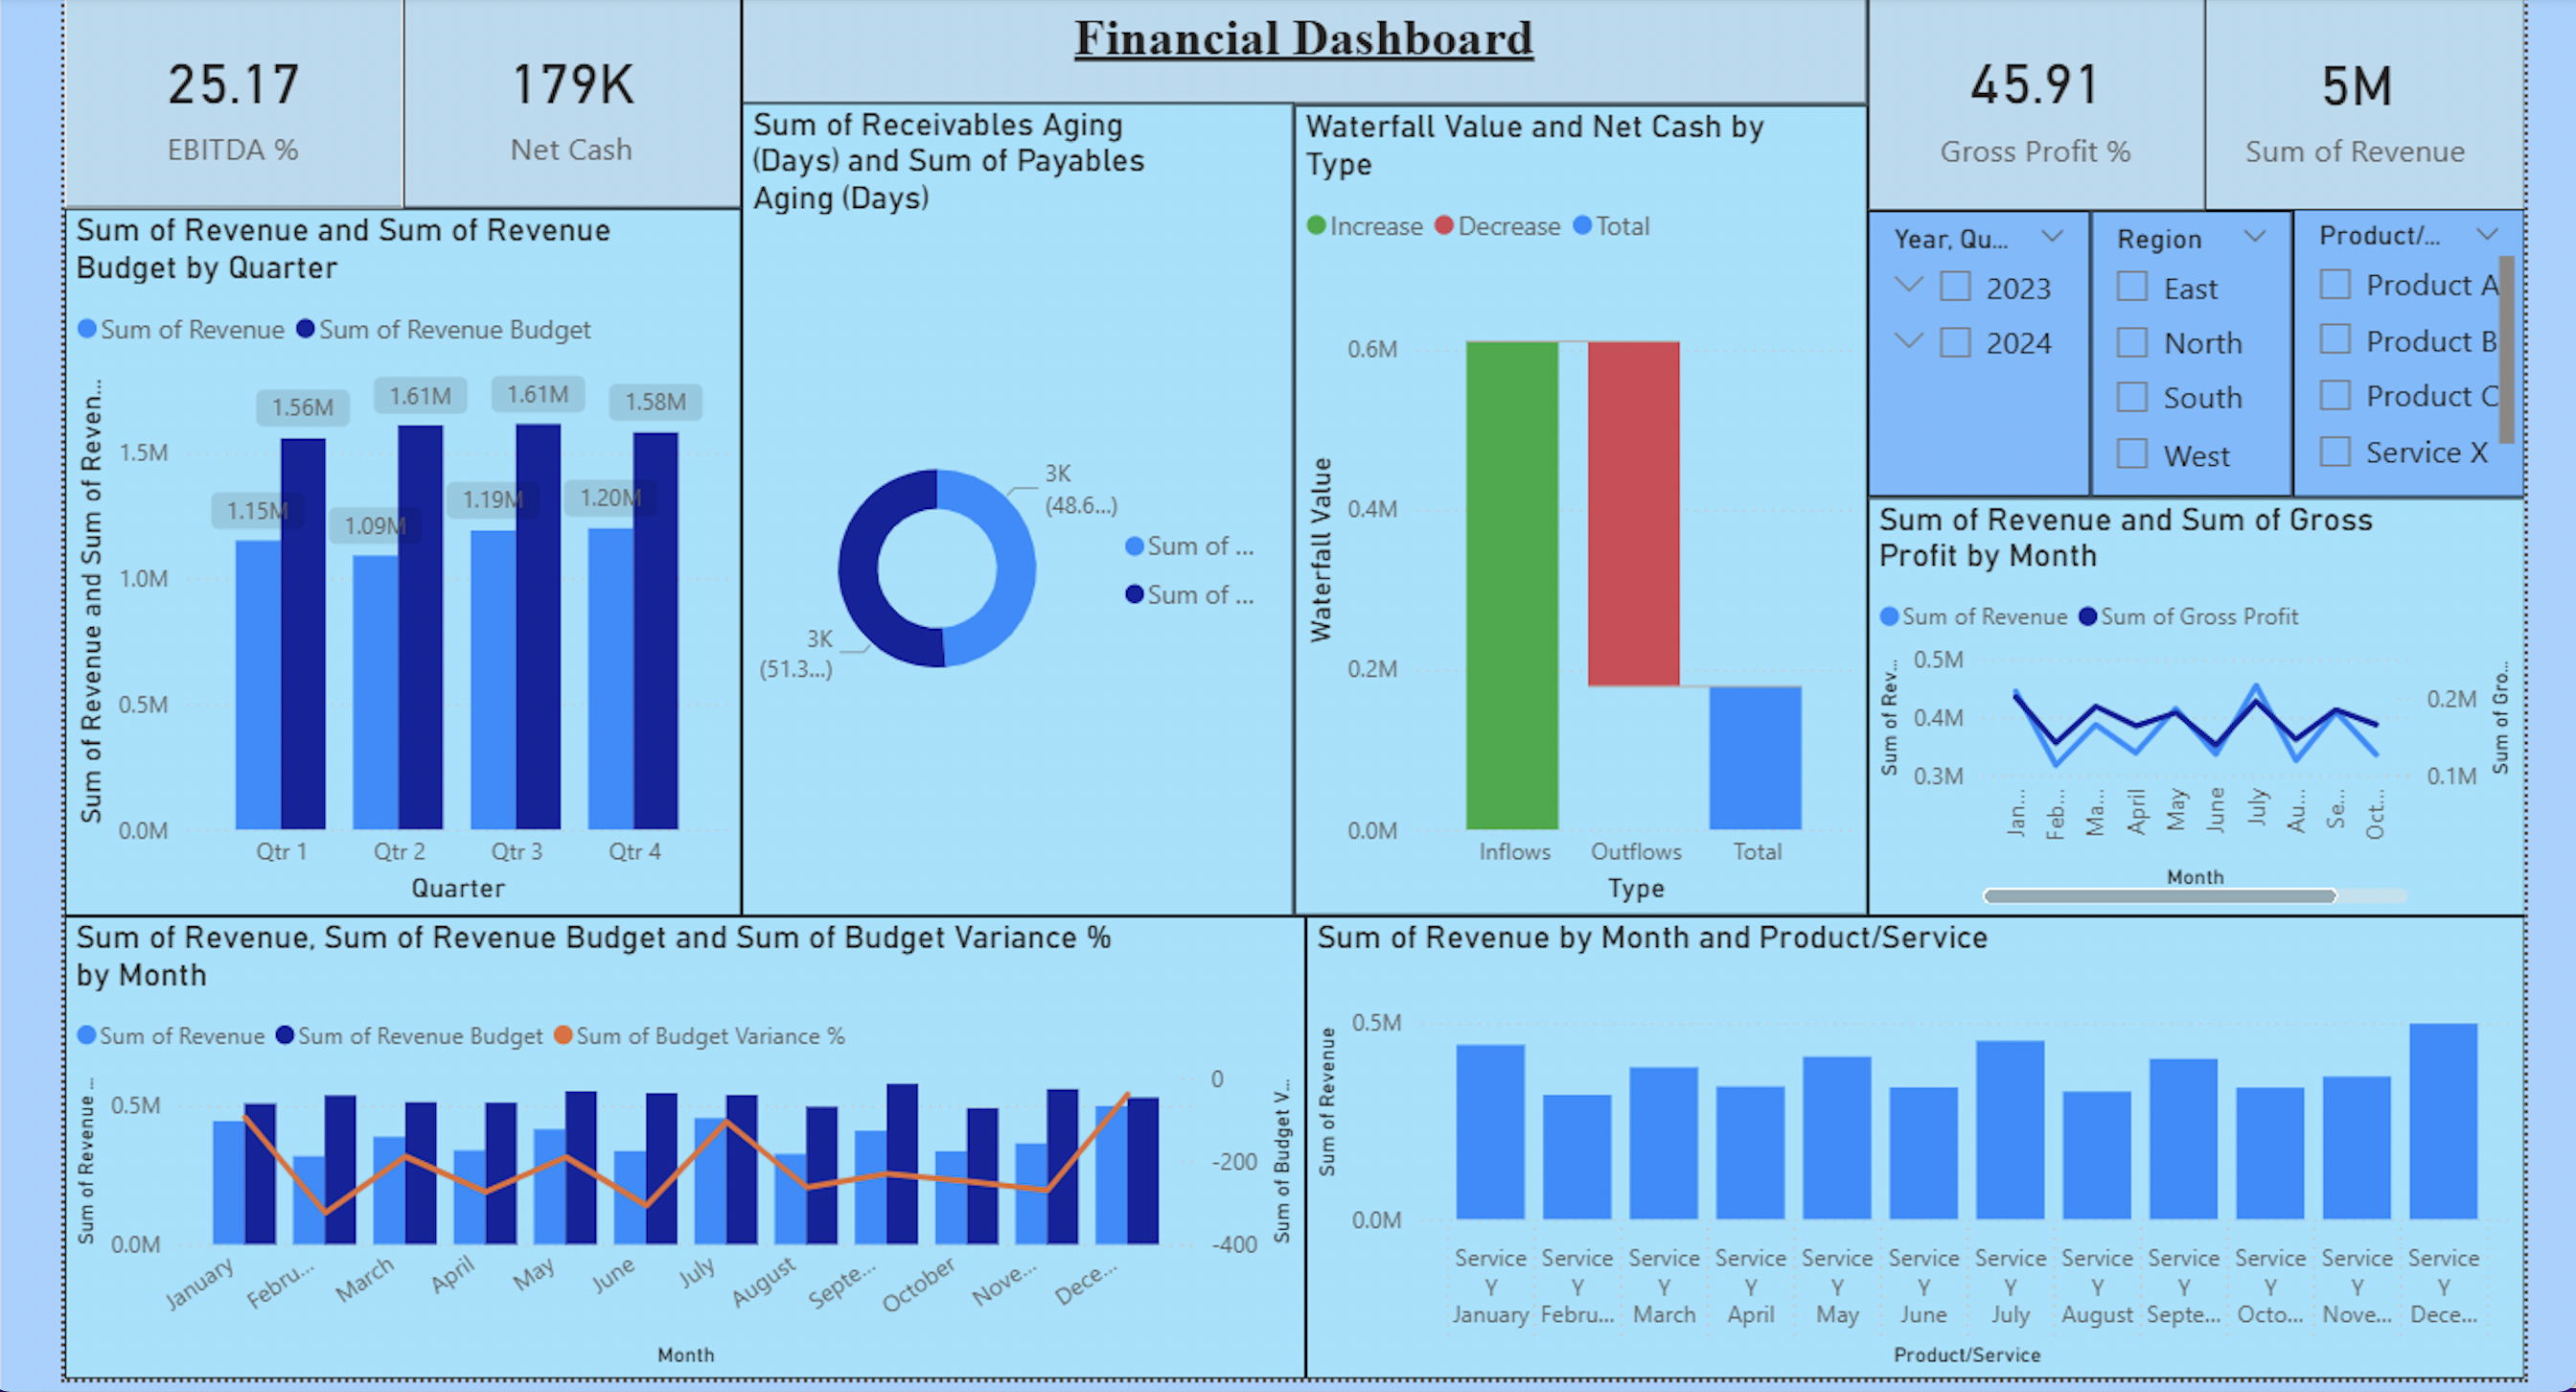

This screenshot's page, from the dashboard's own definition file:
{"tool":"powerbi","page":{"name":"Page 1","canvas":[1280,720],"ordinal":0},"visuals":[{"type":"slicer","fields":{"Values":["Table1.Region"]},"box":[1054.1,112.5,105.2,149.2],"z":1},{"type":"slicer","fields":{"Values":["Table1.Product/Service"]},"box":[1159.2,111.3,121.1,150.4],"z":2},{"type":"card","fields":{"Values":["Sum(Table1.Revenue)"]},"box":[1104.2,1.2,176.1,111.3],"z":4},{"type":"card","fields":{"Values":["Table1.Gross Profit %"]},"box":[937.9,0,176.1,112.5],"z":5},{"type":"card","fields":{"Values":["Table1.EBITDA %"]},"box":[0,0,176.1,111.3],"z":6},{"type":"card","fields":{"Values":["Table1.Net Cash"]},"box":[176.1,0,176.1,111.3],"z":7},{"type":"lineChart","fields":{"Category":["Table1.Month.Variation.Date Hierarchy.Month"],"Y":["Sum(Table1.Revenue)"],"Y2":["Sum(Table1.Gross Profit)"]},"box":[937.9,261.7,342.4,217.7],"z":8},{"type":"clusteredColumnChart","fields":{"Category":["Table1.Month.Variation.Date Hierarchy.Quarter"],"Y":["Sum(Table1.Revenue)","Sum(Table1.Revenue Budget)"]},"box":[0,111.3,352.2,368.1],"z":9},{"type":"clusteredColumnChart","fields":{"Category":["Table1.Month.Variation.Date Hierarchy.Month","Table1.Product/Service"],"Y":["Sum(Table1.Revenue)"]},"box":[645.7,479.4,634.7,240.9],"z":10},{"type":"textbox","box":[352.2,1.2,585.7,56.3],"z":11},{"type":"slicer","fields":{"Values":["Table1.Month.Variation.Date Hierarchy.Year","Table1.Month.Variation.Date Hierarchy.Quarter","Table1.Month.Variation.Date Hierarchy.Month","Table1.Month.Variation.Date Hierarchy.Day"]},"box":[937.9,112.5,116.2,149.2],"z":12},{"type":"waterfallChart","fields":{"Category":["Cash Type.Type"],"Y":["Cash Type.Waterfall Value"]},"box":[639.5,57.5,298.4,421.9],"z":13},{"type":"lineClusteredColumnComboChart","fields":{"Y":["Sum(Table1.Revenue)","Sum(Table1.Revenue Budget)"],"Category":["Table1.Month.Variation.Date Hierarchy.Month"],"Y2":["Sum(Table1.Budget Variance %)"]},"box":[0,479.4,645.7,240.9],"z":14},{"type":"donutChart","fields":{"Y":["Sum(Table1.Receivables Aging (Days))","Sum(Table1.Payables Aging (Days))"]},"box":[352.2,56.3,287.4,423.1],"z":15}]}

Visuals, with their boxes in screenshot pixels (x1, y1, x2, y2):
slicer - Table1.Region: x1=2079, y1=214, x2=2279, y2=498
slicer - Table1.Product/Service: x1=2279, y1=212, x2=2509, y2=498
card - Sum(Table1.Revenue): x1=2173, y1=2, x2=2509, y2=214
card - Table1.Gross Profit %: x1=1857, y1=0, x2=2193, y2=214
card - Table1.EBITDA %: x1=74, y1=0, x2=409, y2=212
card - Table1.Net Cash: x1=409, y1=0, x2=744, y2=212
lineChart - Table1.Month.Variation.Date Hierarchy.Month x Sum(Table1.Revenue): x1=1857, y1=498, x2=2509, y2=912
clusteredColumnChart - Table1.Month.Variation.Date Hierarchy.Quarter x Sum(Table1.Revenue): x1=74, y1=212, x2=744, y2=912
clusteredColumnChart - Table1.Month.Variation.Date Hierarchy.Month x Table1.Product/Service: x1=1302, y1=912, x2=2509, y2=1371
textbox: x1=744, y1=2, x2=1857, y2=109
slicer - Table1.Month.Variation.Date Hierarchy.Year x Table1.Month.Variation.Date Hierarchy.Quarter: x1=1857, y1=214, x2=2079, y2=498
waterfallChart - Cash Type.Type x Cash Type.Waterfall Value: x1=1290, y1=109, x2=1857, y2=912
lineClusteredColumnComboChart - Sum(Table1.Revenue) x Sum(Table1.Revenue Budget): x1=74, y1=912, x2=1302, y2=1371
donutChart - Sum(Table1.Receivables Aging (Days)) x Sum(Table1.Payables Aging (Days)): x1=744, y1=107, x2=1290, y2=912
